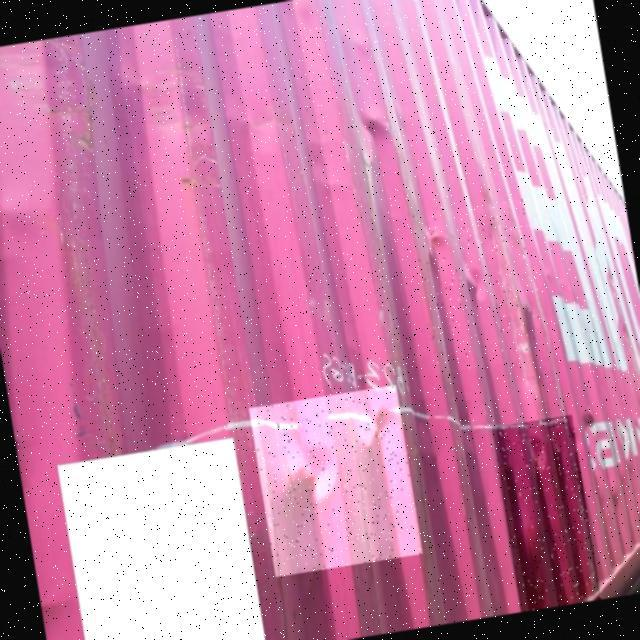Dent: (249, 385, 423, 577)
Minor-Dent: (409, 198, 553, 375), (492, 415, 601, 612)
